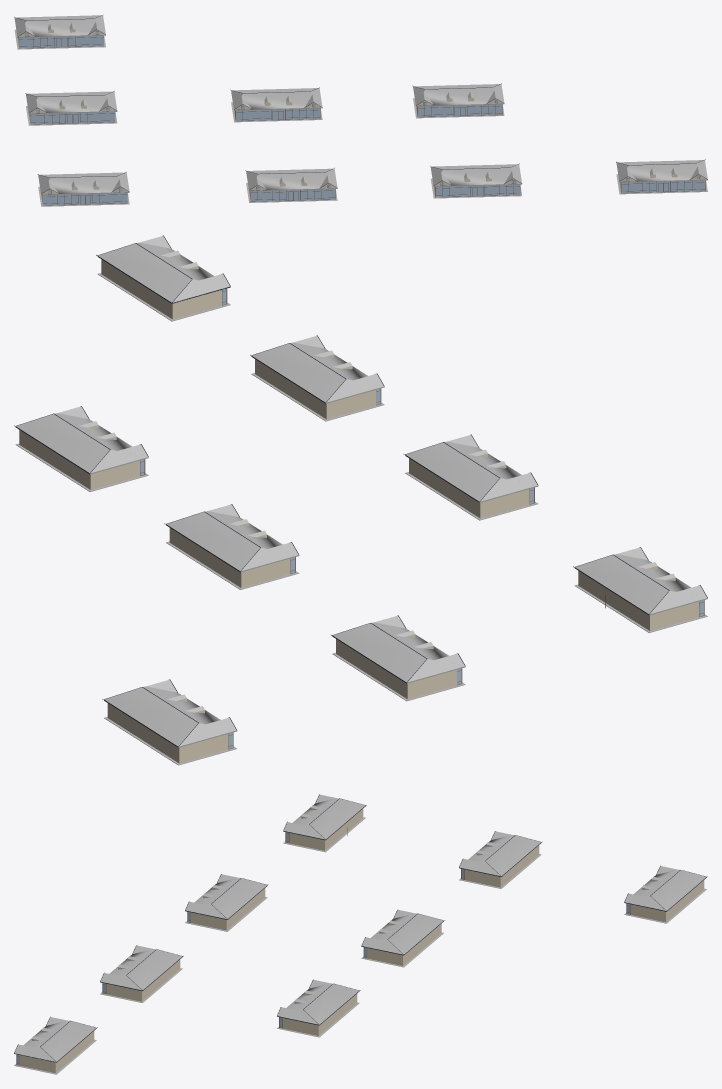
Rendered from changfang1.gltf.
The picture shows the model from 3 angles, top to bottom: view 1: azimuth 30°, elevation 25°; view 2: azimuth 150°, elevation 25°; view 3: azimuth 270°, elevation 25°; orthographic projection. The views are drawn at different scales.
Visible parts, largest first — view 1: dx45; view 2: dx45; view 3: dx45.
Part boxes in pixels (box(x1,y1,x2,y2)): dx45: box(14, 15, 707, 206); dx45: box(14, 235, 707, 765); dx45: box(14, 794, 707, 1074).
Size of the model in its own units: 1043 by 35.37 by 1150.
